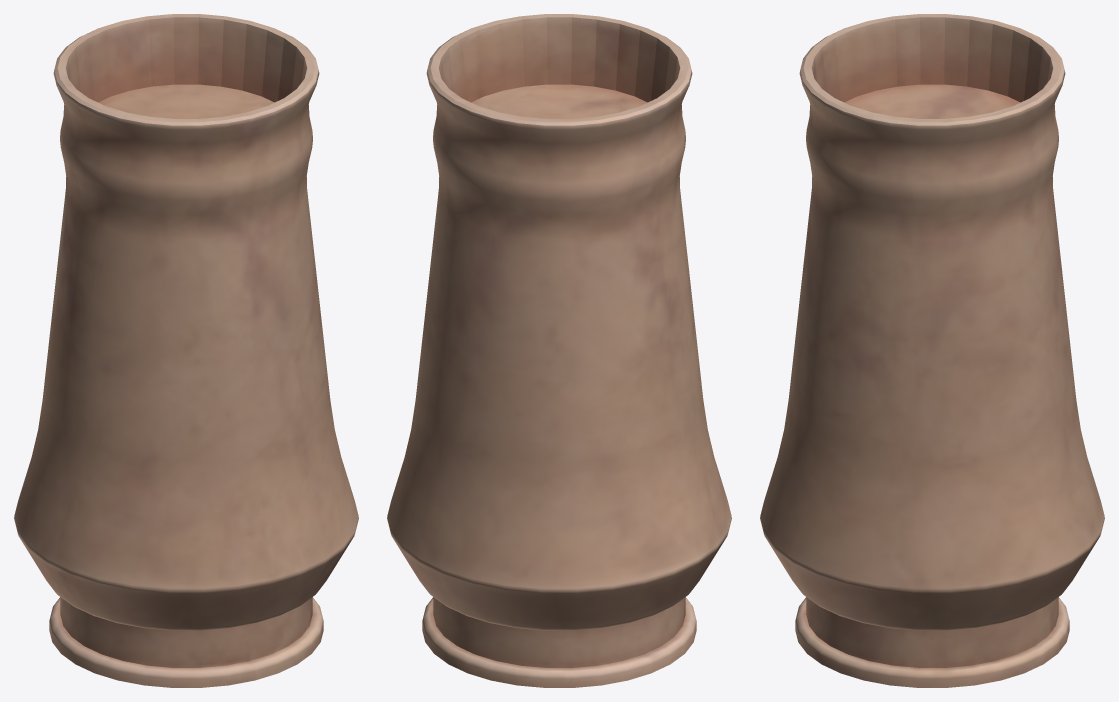
Rendered from SM_FlowerPot_07.fbx.
The picture shows the model from 3 angles, left to right: view 1: azimuth 30°, elevation 25°; view 2: azimuth 150°, elevation 25°; view 3: azimuth 270°, elevation 25°; orthographic projection.
Parts seen in each view (by area): view 1: SM_FlowerPot_07_LOD0; view 2: SM_FlowerPot_07_LOD0; view 3: SM_FlowerPot_07_LOD0.
Part boxes in pixels (bbox=[...]): SM_FlowerPot_07_LOD0: bbox=[14, 14, 358, 687]; SM_FlowerPot_07_LOD0: bbox=[387, 14, 731, 687]; SM_FlowerPot_07_LOD0: bbox=[760, 14, 1104, 687].
Size of the model in its own units: 28.58 by 28.74 by 51.7.
1 material, 1 textured.
